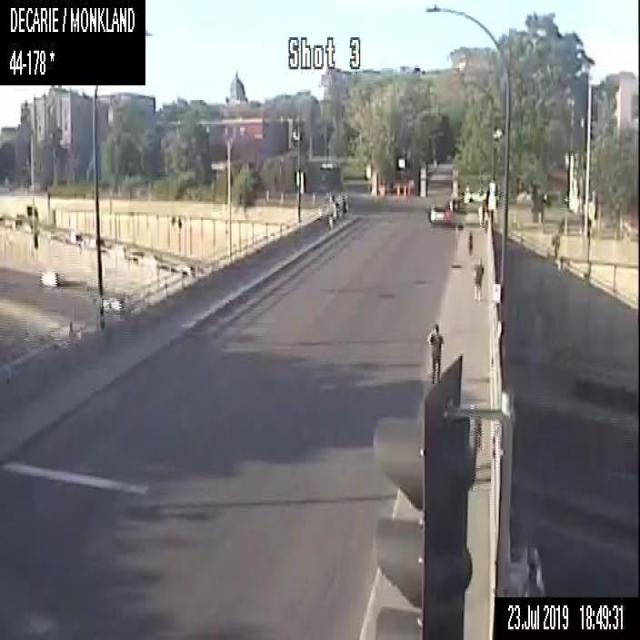pedestrian: (427, 321, 444, 380), (472, 257, 484, 300), (328, 200, 337, 228), (467, 230, 473, 253), (340, 195, 346, 217)
vehicle: (428, 201, 449, 223), (104, 293, 127, 312), (64, 228, 82, 244), (110, 240, 127, 256), (41, 270, 57, 286), (448, 196, 466, 210)
